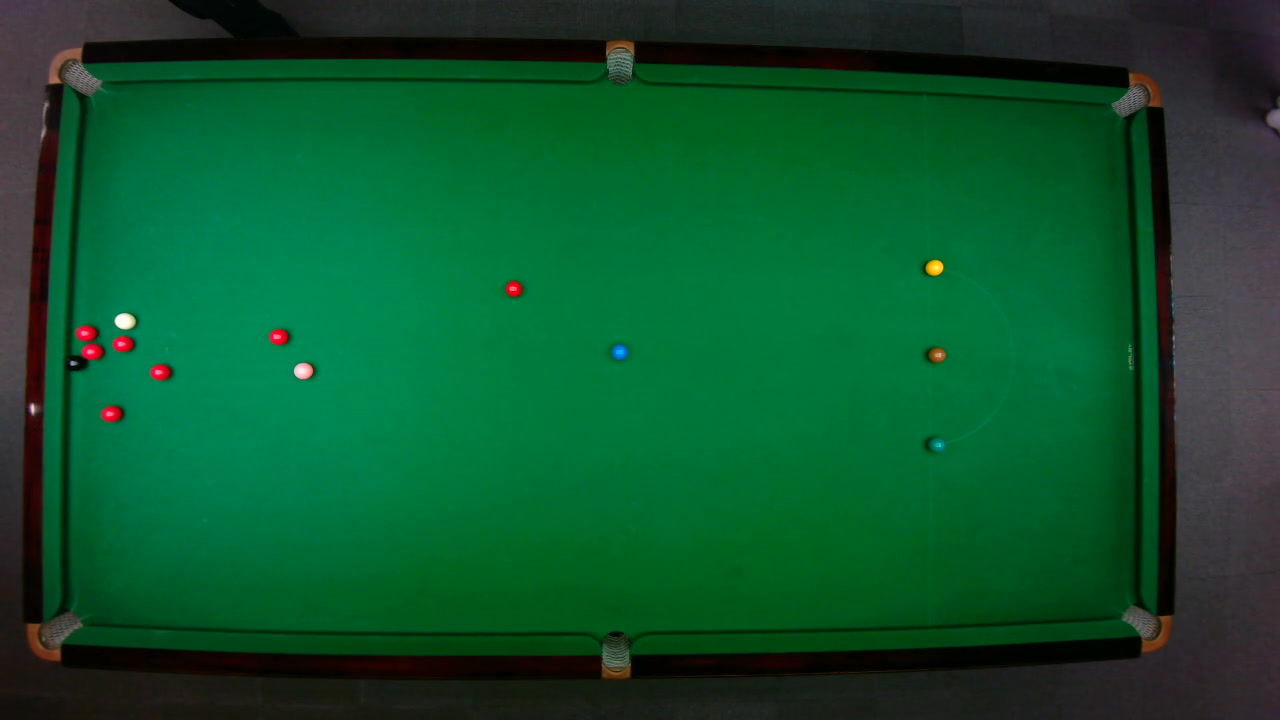bag: (24, 608, 84, 661), (46, 46, 102, 96), (1119, 603, 1172, 652), (1108, 71, 1162, 118), (600, 629, 629, 680), (605, 38, 633, 85)
black: (64, 354, 84, 370)
blue: (610, 342, 628, 360)
brown: (926, 346, 946, 362)
green: (926, 435, 946, 453)
pink: (292, 360, 314, 380)
red: (148, 362, 172, 381), (79, 342, 104, 360), (99, 404, 123, 422), (74, 323, 97, 341), (111, 334, 134, 352), (267, 327, 289, 345), (503, 279, 523, 297)
white: (113, 311, 136, 329)
yellow: (923, 258, 944, 276)
zone: (925, 264, 1013, 445)
